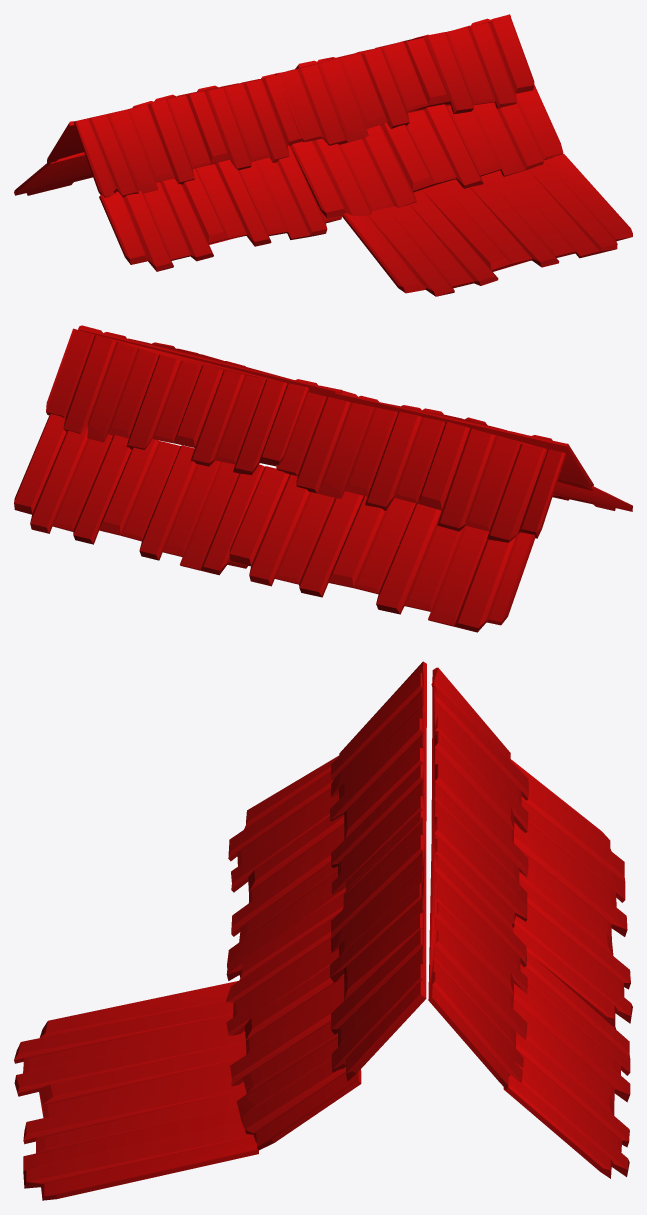
File: Roof_RedPlanks.fbx
The picture shows the model from 3 angles, top to bottom: view 1: azimuth 30°, elevation 25°; view 2: azimuth 150°, elevation 25°; view 3: azimuth 270°, elevation 25°; orthographic projection. The views are drawn at different scales.
Visible parts, largest first — view 1: Roof_RedPlanks; view 2: Roof_RedPlanks; view 3: Roof_RedPlanks.
Boxes of the visible parts, x1,y1,x2,y2 form: Roof_RedPlanks: (14,14,632,296); Roof_RedPlanks: (14,325,632,632); Roof_RedPlanks: (14,661,632,1200).
Bounding box in the file's own units: 13.78 × 4.09 × 10.7.
